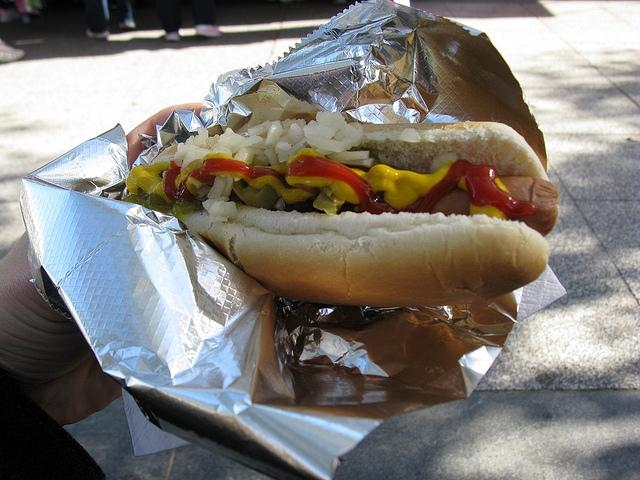onion: (304, 122, 363, 152), (181, 148, 212, 170), (276, 122, 304, 146), (430, 153, 459, 174), (265, 120, 284, 146), (207, 176, 227, 200), (328, 150, 369, 161), (338, 157, 375, 168), (292, 141, 318, 156), (286, 136, 306, 155), (234, 147, 254, 164), (401, 128, 422, 144), (324, 111, 346, 125), (314, 125, 336, 139), (173, 148, 196, 161), (221, 174, 233, 198), (248, 125, 272, 136), (282, 118, 306, 128), (250, 137, 268, 149), (244, 135, 262, 147), (212, 146, 232, 156), (305, 120, 317, 136), (218, 134, 231, 148), (196, 125, 208, 140), (202, 138, 214, 150), (227, 144, 241, 153), (184, 136, 194, 146), (215, 216, 228, 222), (213, 134, 220, 144), (198, 143, 206, 149), (274, 147, 279, 154)
